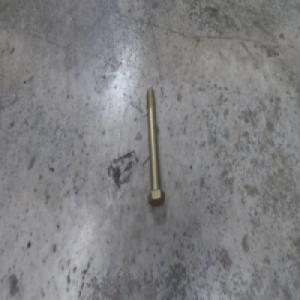Bolt: (144, 83, 166, 202)
